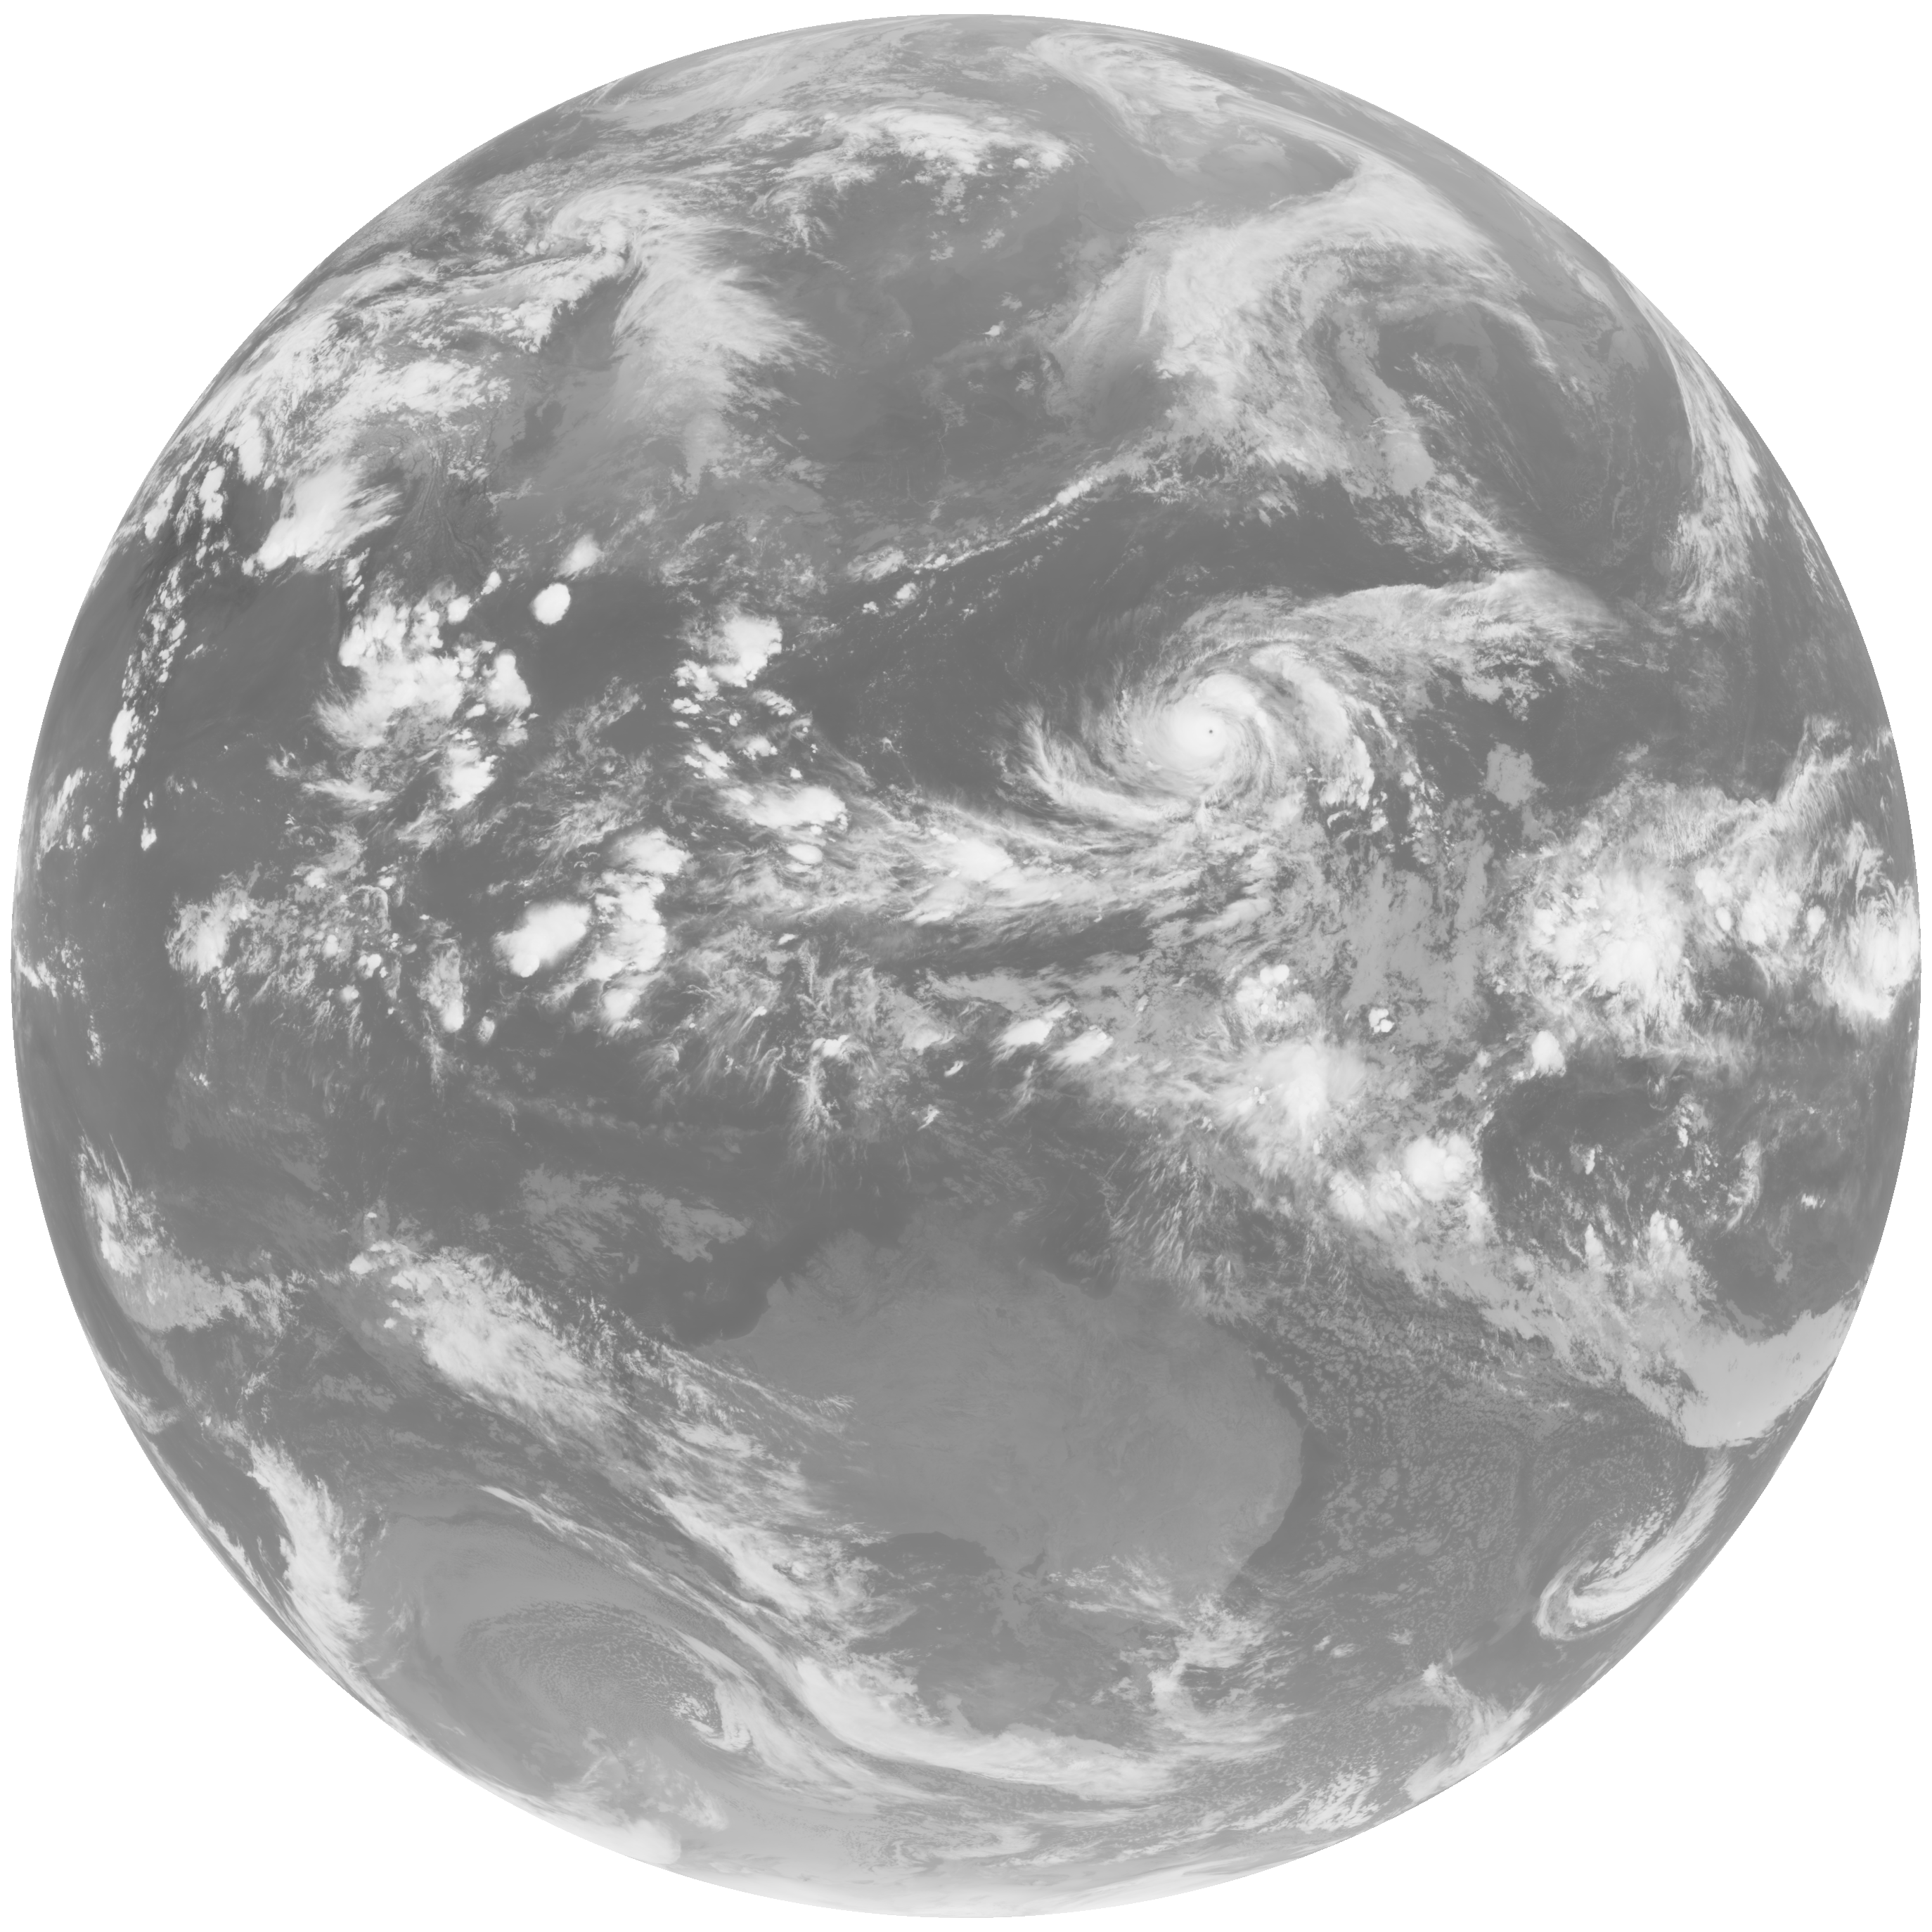typhoon: (952, 570, 1502, 915)
